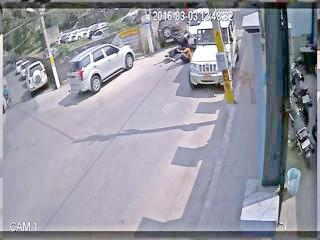Car: (65, 41, 134, 94), (191, 18, 236, 88), (187, 11, 213, 43), (157, 17, 187, 44), (26, 60, 47, 94), (19, 61, 29, 81), (15, 60, 23, 75)
Minor Accident: (167, 12, 210, 66)
Motor: (168, 45, 192, 66)
